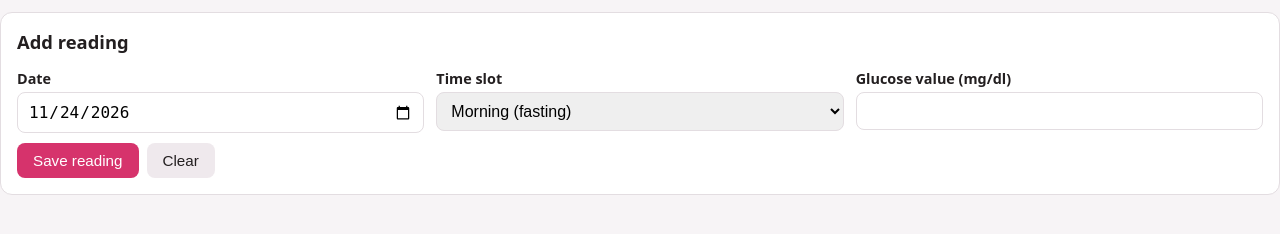
shows a range error for 30
Type "30" into the number field labelled "Glucose value (mg/dl)".
click(1059, 111); type("30")  # box [856,92,1263,130]
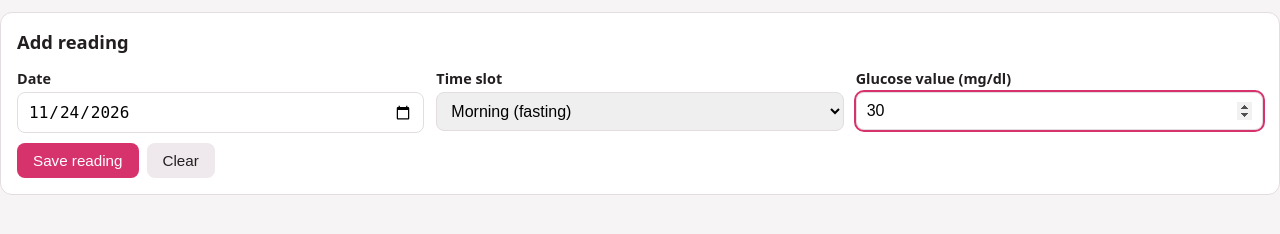
Click the button "Save reading".
click(78, 161)  # box [17,143,138,178]
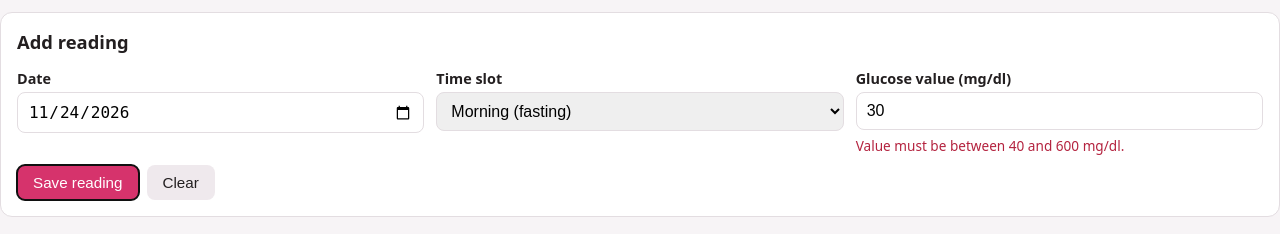
Check: the text "Value must be between 40 and 600 mg/dl." is shown, box [856,136,1124,155]
